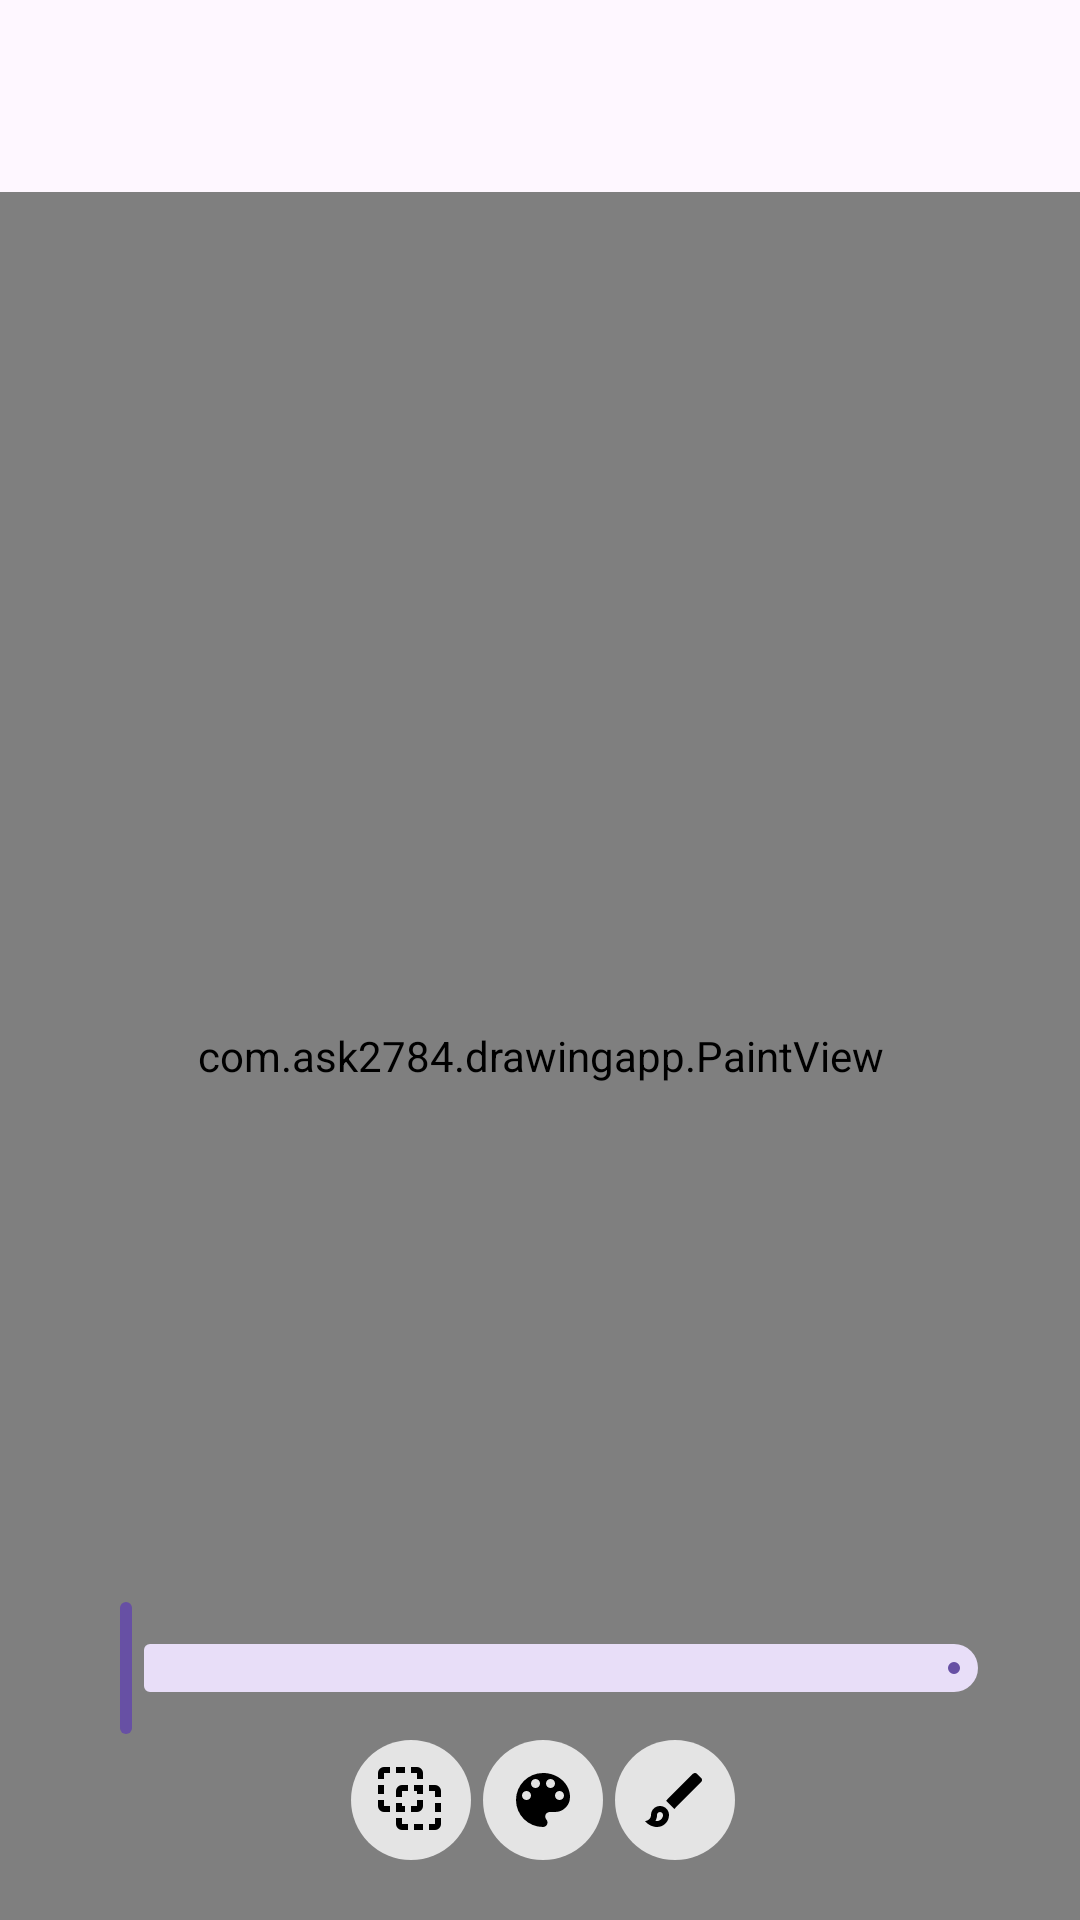

Point at icon controls on the screen. Image size 1080 x 1920, points as (x,y).
brush: (675,1800)
select: (411,1800)
